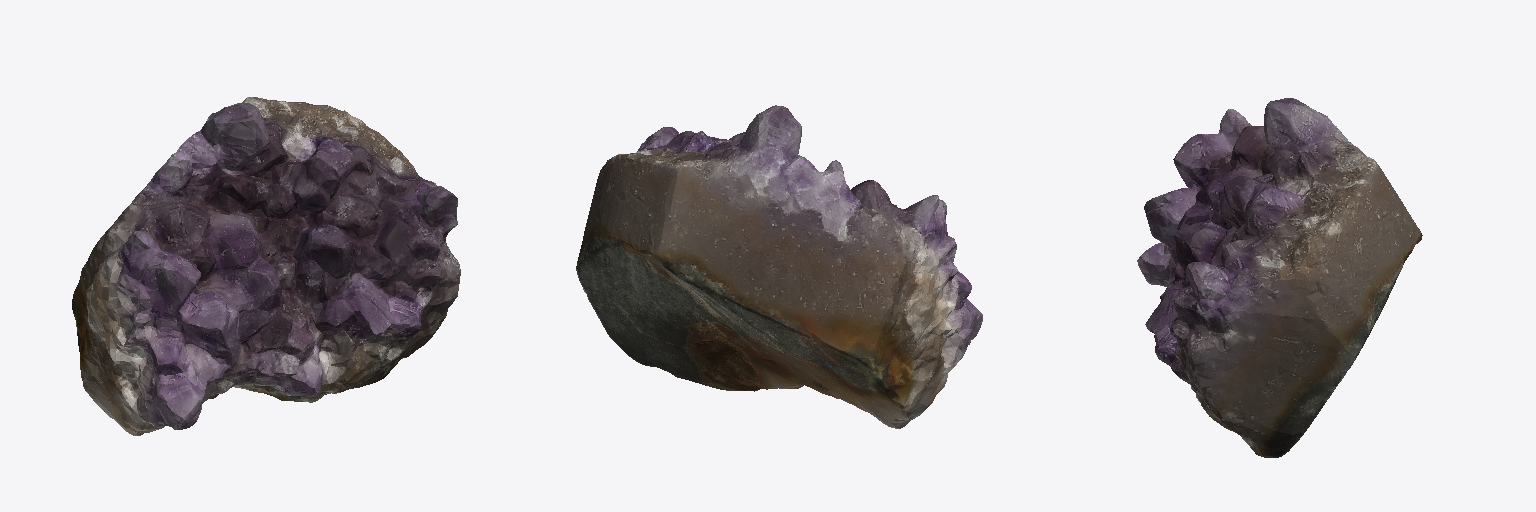
3 views of the same model, side by side, from view 1: azimuth 30°, elevation 25°; view 2: azimuth 150°, elevation 25°; view 3: azimuth 270°, elevation 25° (orthographic).
Visible parts, largest first — view 1: Default; view 2: Default; view 3: Default.
Part boxes in pixels (x1,y1,x2,y2): Default: (72, 97, 460, 435); Default: (576, 105, 982, 428); Default: (1137, 98, 1422, 457).
Size of the model in its own units: 1.98 by 1.73 by 1.49.
Materials: 1 (1 with a texture image).